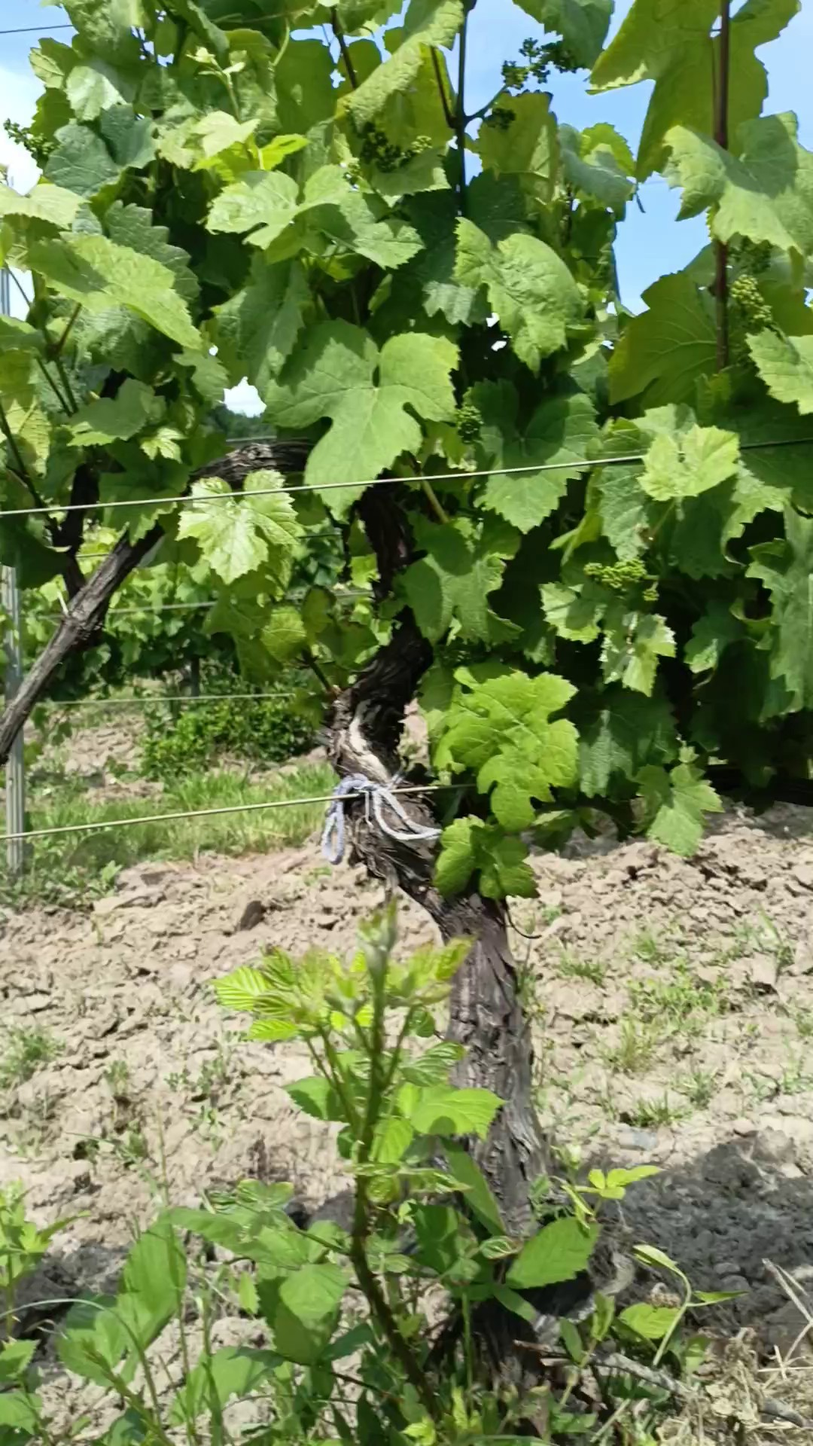vine_trunk: (352, 820, 551, 1226), (328, 621, 428, 781)
